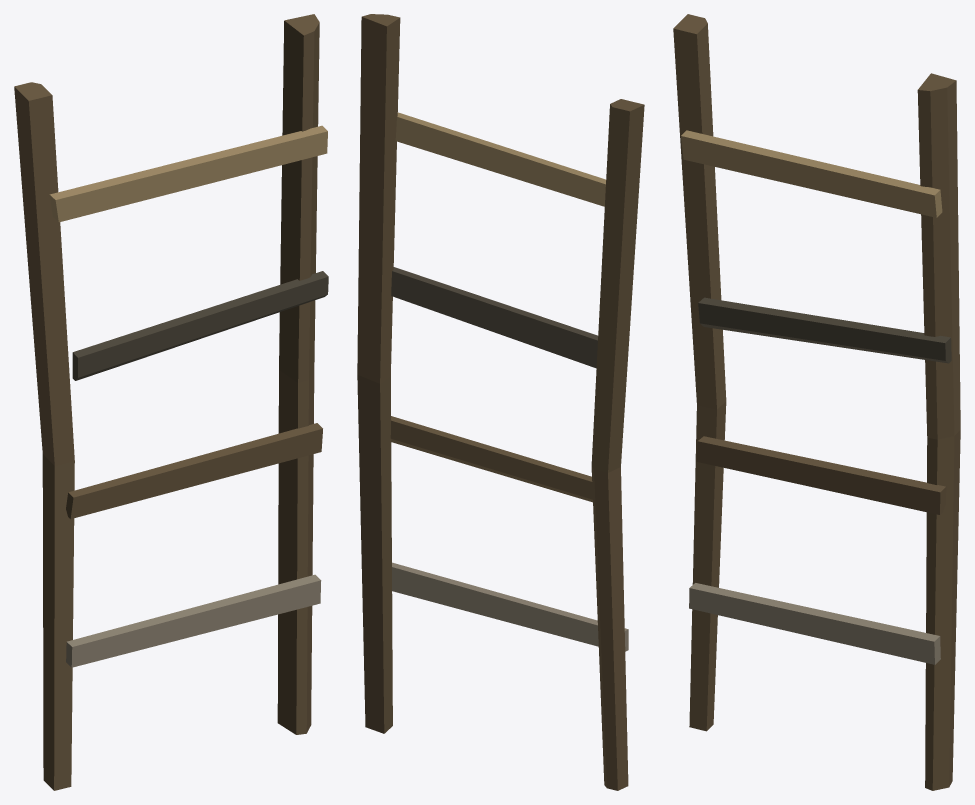
File: EA03_Prop_Village_Ladder_02a.glb
The picture shows the model from 3 angles, left to right: view 1: azimuth 30°, elevation 25°; view 2: azimuth 150°, elevation 25°; view 3: azimuth 330°, elevation 25°; orthographic projection.
Parts seen in each view (by area): view 1: EA03_Prop_Village_Ladder_02a; view 2: EA03_Prop_Village_Ladder_02a; view 3: EA03_Prop_Village_Ladder_02a.
Part boxes in pixels (x1,y1,x2,y2): EA03_Prop_Village_Ladder_02a: [14, 14, 328, 790]; EA03_Prop_Village_Ladder_02a: [357, 14, 644, 790]; EA03_Prop_Village_Ladder_02a: [673, 14, 960, 790].
Size of the model in its own units: 0.8587 by 2.04 by 0.1728.
1 material, 1 textured.
